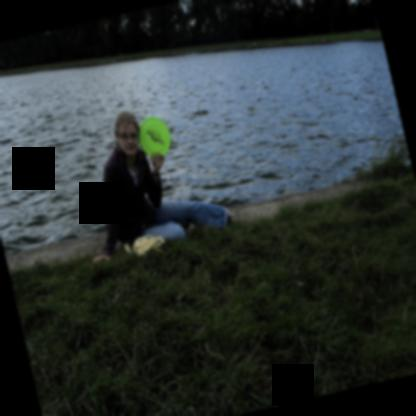handbag: (123, 234, 166, 257)
